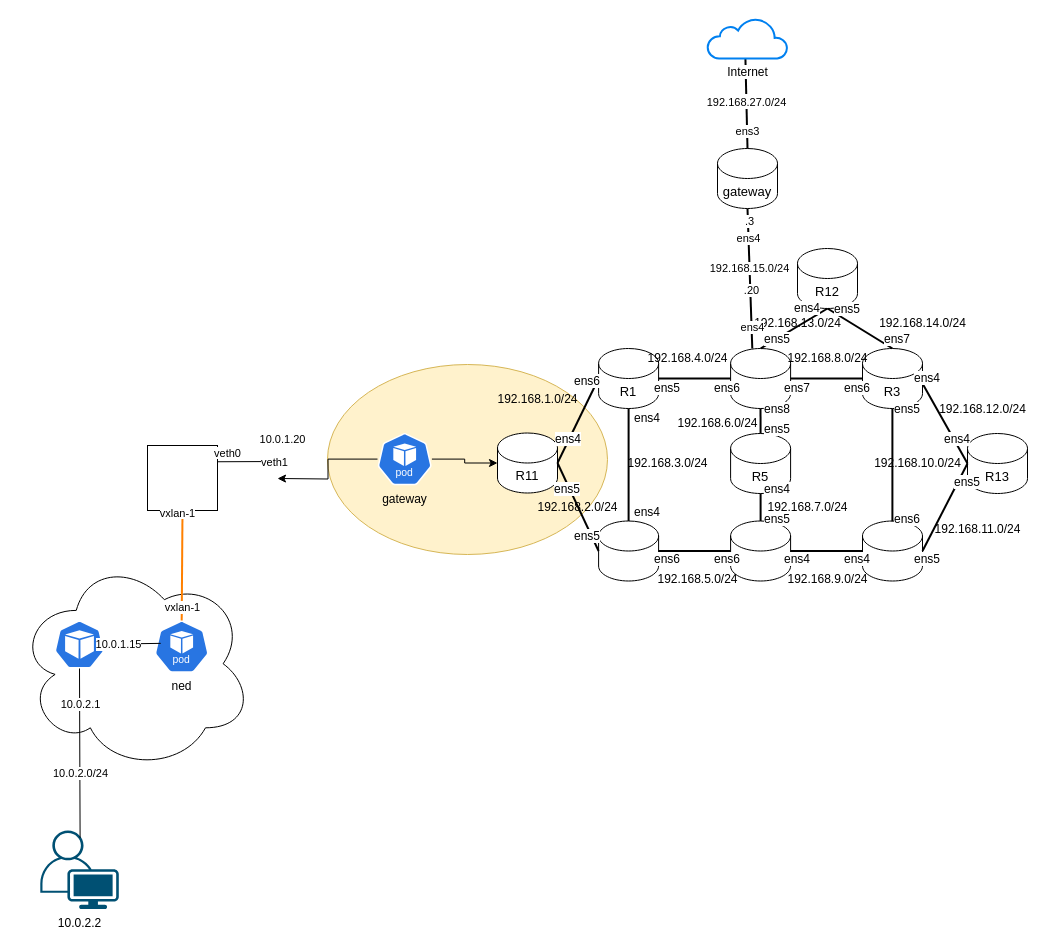
The diagram is 1055 pixels wide and 947 high, and some of its shapes have lost their labels. The shapes that lost their labels are listed below. From the top down, each one's centre as x and y in pixels, then its label:
At [760,378]: "R2".
At [182,477]: "br0".
At [628,550]: "R4".
At [760,550]: "R6".
At [892,550]: "R7".
At [79,644]: "proxy".
